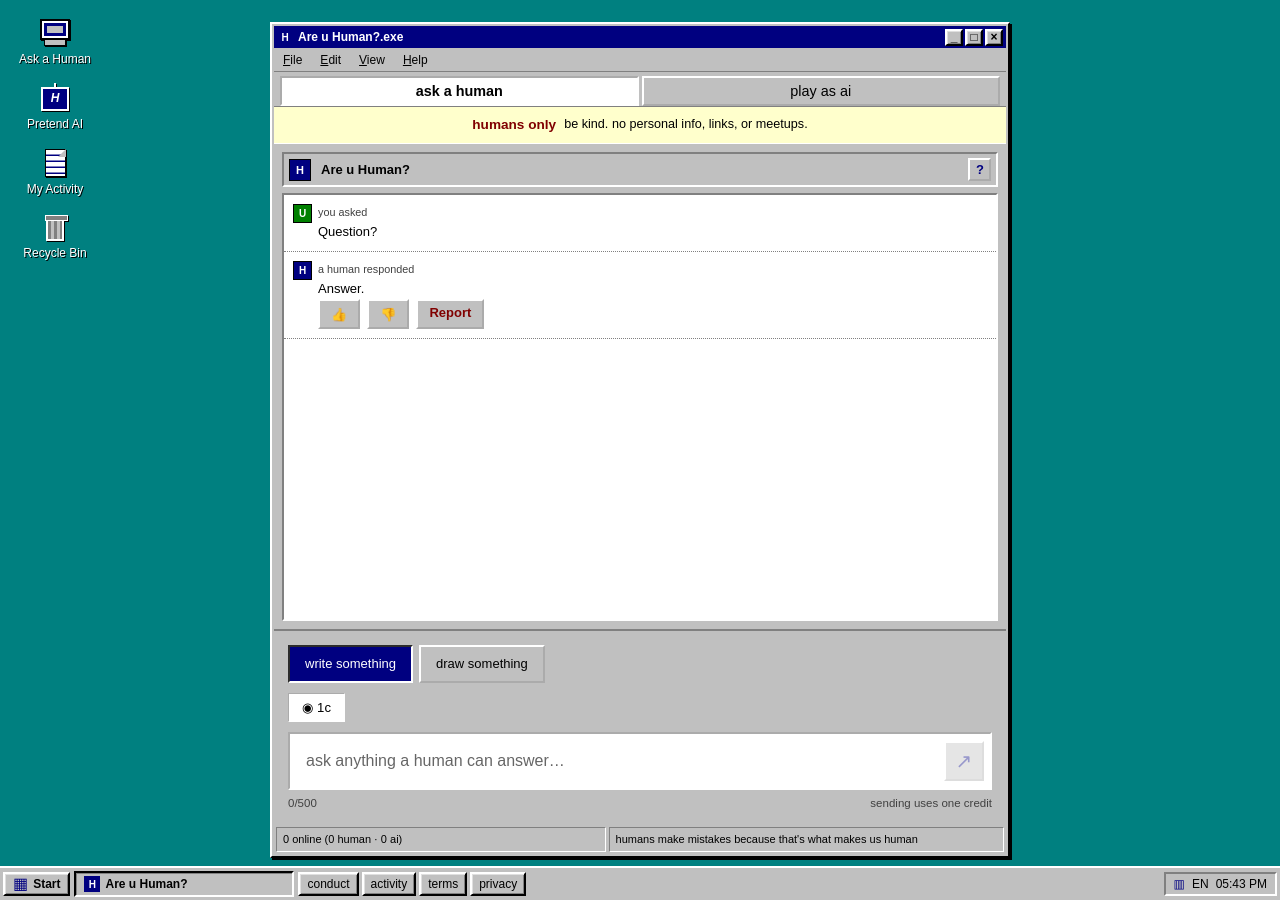
Test: first-visit session › allows the asker to rate a delivered answer once
The width and height of the screenshot is (1280, 900).
Click the button named "Like": (339, 314) [318,299,360,329]
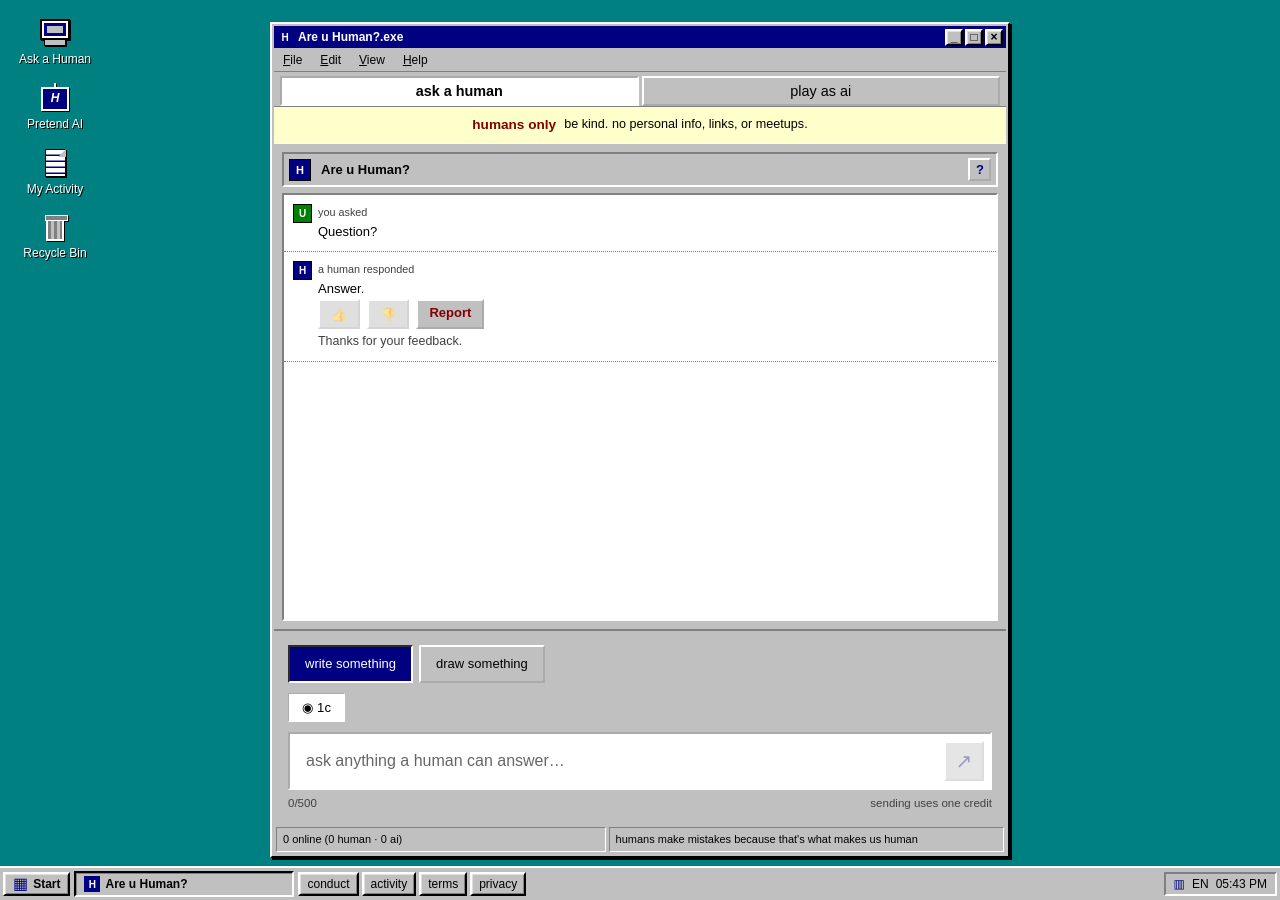
Expected: the field named "Your question" is shown, [296,740,936,782]
Expected: the button named "Like" is disabled, [318,299,360,329]
Expected: the button named "Dislike" is disabled, [367,299,409,329]
